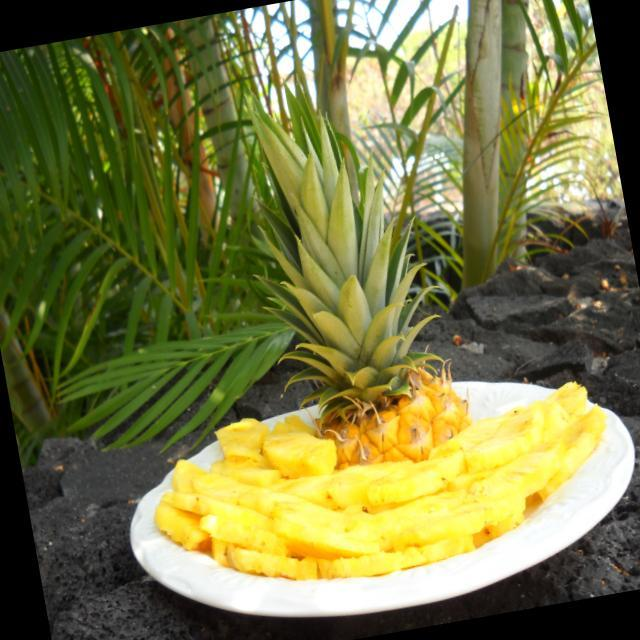PINEAPLE: (260, 96, 464, 458), (290, 434, 416, 618), (448, 421, 584, 584), (516, 364, 632, 505), (165, 452, 267, 575)
